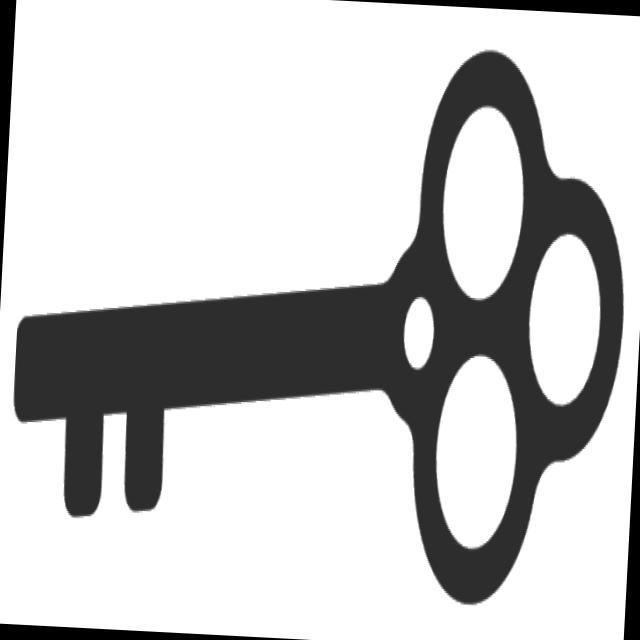key: (1, 8, 640, 624)
